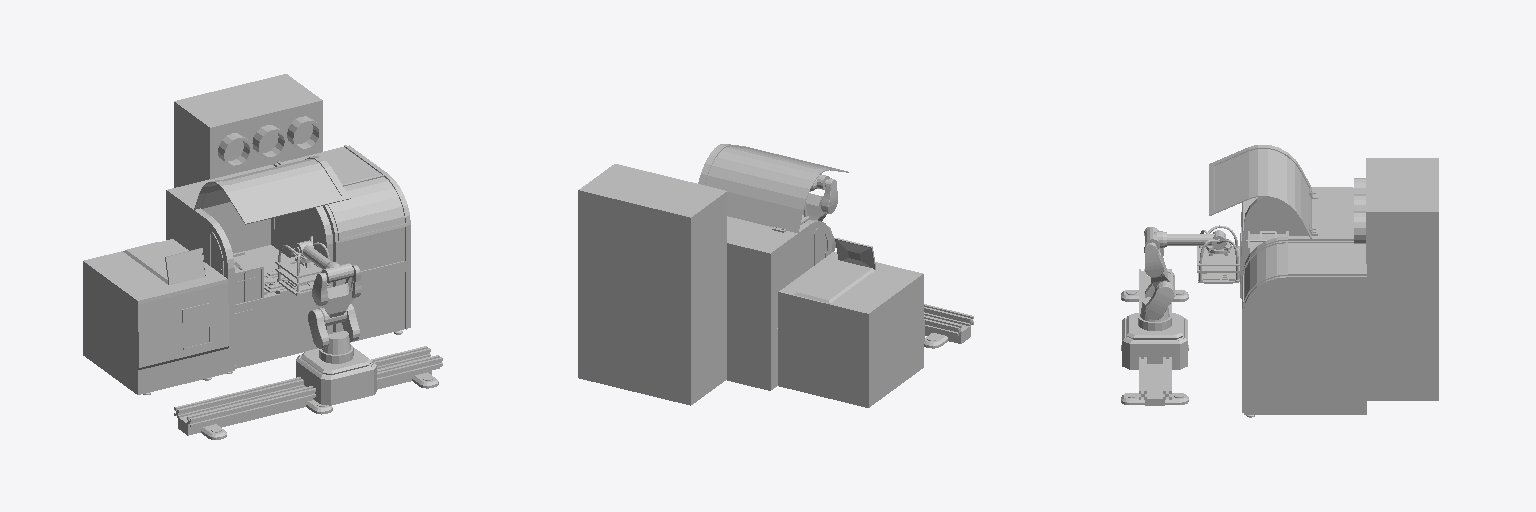
The model's file is machine_011.obj.
The picture shows the model from 3 angles: view 1: azimuth 30°, elevation 25°; view 2: azimuth 150°, elevation 25°; view 3: azimuth 270°, elevation 25°; orthographic projection.
Visible parts, largest first — view 1: Cube.097, Cube.018, Cube.045, Cube.006, Cube.020, Cube.168, Cube.102, Cube.101, Cube.103, Cube.009, Cube.080, Cube.036 (+7 smaller); view 2: Cube.045, Cube.097, Cube.018, Cube.020, Cube.098, Cube.009, Cube.038, Cube.080, Cube.007, Cube.102; view 3: Cube.006, Cube.045, Cube.020, Cube.018, Cube.168, Cube.009, Cube.007, Cube.103, Cylinder.109, Cylinder.103, Cube.099, Cube.102 (+2 smaller).
Part boxes in pixels (x1,y1,x2,y2): Cube.097: (83, 239, 228, 394); Cube.018: (166, 165, 332, 371); Cube.045: (174, 74, 322, 187); Cube.006: (274, 145, 410, 342); Cube.020: (194, 156, 350, 224); Cube.168: (296, 347, 376, 405); Cube.102: (187, 355, 442, 427); Cube.101: (174, 346, 430, 417); Cube.103: (178, 356, 439, 435); Cube.009: (207, 86, 288, 115); Cube.080: (165, 248, 205, 284); Cube.036: (277, 161, 405, 330); Cube.045: (578, 164, 726, 405); Cube.097: (778, 252, 924, 407); Cube.018: (727, 216, 831, 390); Cube.020: (698, 144, 848, 232); Cube.098: (794, 260, 874, 303); Cube.009: (612, 176, 693, 204); Cube.038: (777, 230, 826, 270); Cube.080: (835, 238, 875, 269); Cube.007: (727, 219, 769, 243); Cube.102: (924, 304, 973, 326); Cube.006: (1244, 241, 1366, 417); Cube.045: (1354, 158, 1438, 400); Cube.020: (1209, 145, 1311, 238); Cube.018: (1244, 188, 1353, 265); Cube.168: (1122, 313, 1187, 369); Cube.009: (1383, 169, 1421, 199); Cube.007: (1321, 198, 1353, 228); Cube.103: (1145, 276, 1164, 405); Cylinder.109: (1145, 283, 1174, 319); Cylinder.103: (1153, 231, 1214, 247); Cube.099: (1242, 273, 1366, 412); Cube.102: (1139, 269, 1146, 399).
Size of the model in its own units: 6.07 by 4.13 by 6.12.